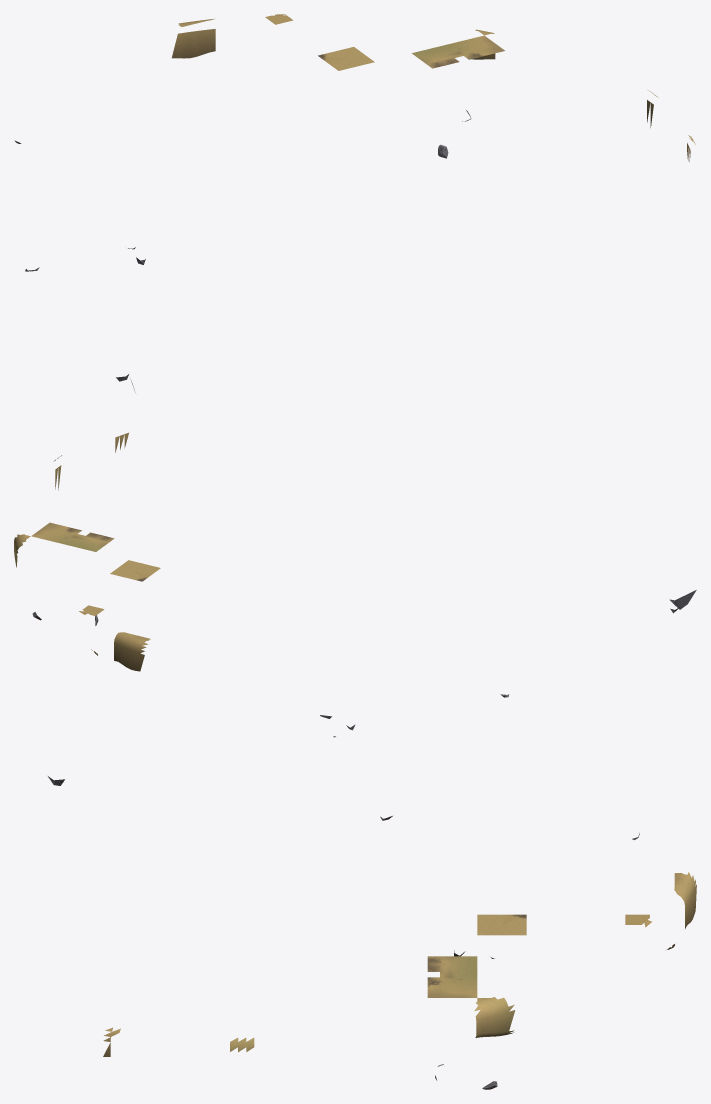
The picture shows the model from 3 angles, top to bottom: view 1: azimuth 30°, elevation 25°; view 2: azimuth 150°, elevation 25°; view 3: azimuth 270°, elevation 25°; orthographic projection. The views are drawn at different scales.
Parts seen in each view (by area): view 1: Grass_1_4_0_010, Grass_3_2_0_100, Grass_2_2_0_010, Grass_3_2_0_000; view 2: Grass_1_4_0_010, Grass_2_2_0_010, Grass_3_2_0_100, Grass_3_2_0_000; view 3: Grass_4_2_0_010, Grass_2_2_0_010, Grass_3_2_0_100, Grass_3_2_0_000, Grass_1_4_0_010.
Boxes of the visible parts, left/top/right/bottom form: Grass_1_4_0_010: left=172, top=18, right=215, bottom=58; Grass_3_2_0_100: left=448, top=35, right=504, bottom=59; Grass_2_2_0_010: left=318, top=47, right=374, bottom=70; Grass_3_2_0_000: left=412, top=44, right=463, bottom=68; Grass_1_4_0_010: left=114, top=632, right=150, bottom=671; Grass_2_2_0_010: left=110, top=560, right=160, bottom=581; Grass_3_2_0_100: left=31, top=522, right=81, bottom=543; Grass_3_2_0_000: left=64, top=532, right=114, bottom=551; Grass_4_2_0_010: left=474, top=997, right=515, bottom=1037; Grass_2_2_0_010: left=477, top=914, right=526, bottom=935; Grass_3_2_0_100: left=427, top=977, right=477, bottom=997; Grass_3_2_0_000: left=427, top=956, right=477, bottom=977; Grass_1_4_0_010: left=674, top=872, right=696, bottom=928.
Bounding box in the file's own units: 546 × 116 × 442.
Materials: 14 (14 with a texture image).
